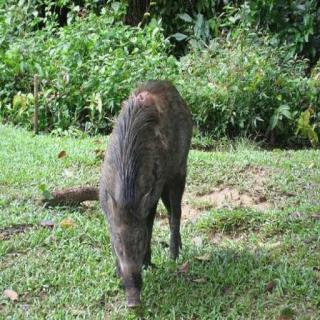Pig: (77, 51, 211, 320)
